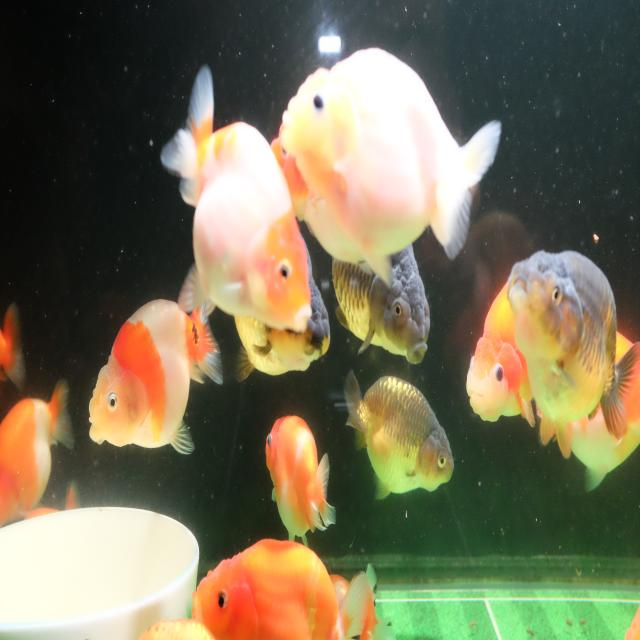Tilapia: (278, 41, 504, 286), (159, 60, 310, 330), (505, 244, 640, 448), (86, 294, 224, 457), (189, 527, 374, 640), (329, 217, 433, 372), (232, 224, 332, 384), (343, 363, 456, 504), (564, 317, 640, 495), (0, 372, 75, 529), (264, 409, 339, 556), (465, 274, 534, 430)
